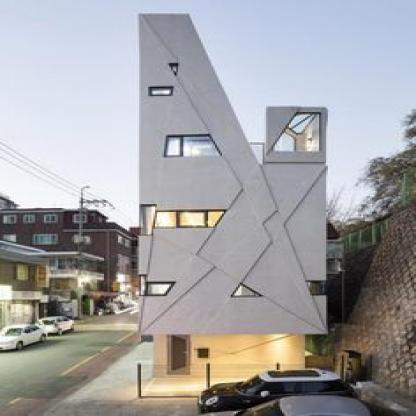Building Outline: (137, 13, 330, 378)
Deco: (197, 349, 210, 358)
Door: (168, 334, 191, 374)
Facade: (138, 13, 330, 378)
Window: (139, 207, 224, 234), (273, 113, 319, 151), (166, 136, 222, 157), (141, 276, 171, 295), (233, 286, 259, 295), (307, 282, 324, 294), (152, 88, 171, 95), (171, 66, 176, 74)
